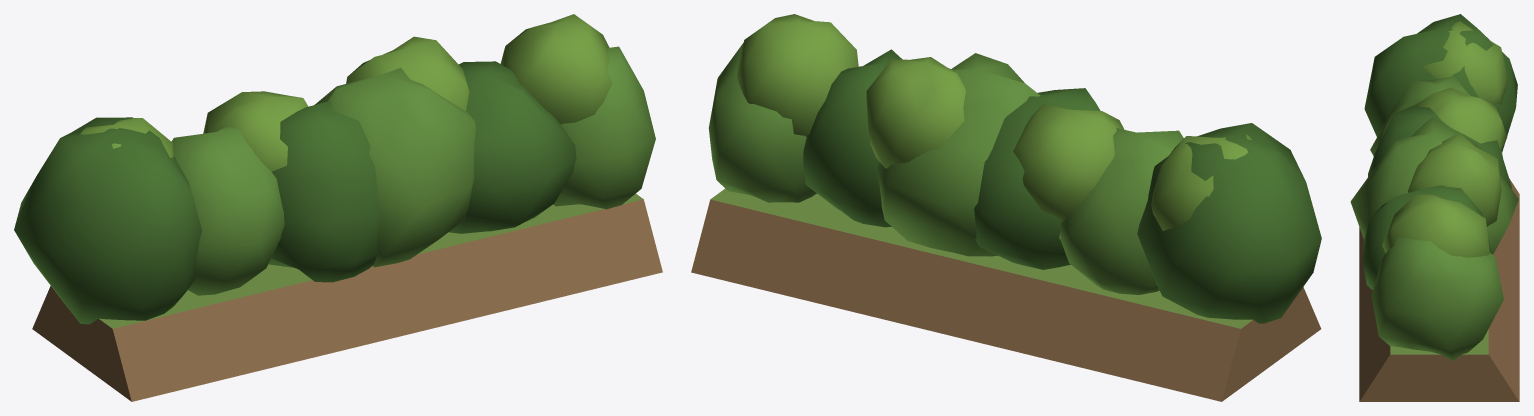
Rendered from hedgerow.glb.
3 views of the same model, side by side, from view 1: azimuth 30°, elevation 25°; view 2: azimuth 150°, elevation 25°; view 3: azimuth 270°, elevation 25° (orthographic). The views are drawn at different scales.
Visible parts, largest first — view 1: LOD0; view 2: LOD0; view 3: LOD0.
Part boxes in pixels (x1,y1,x2,y2): LOD0: [14, 14, 662, 401]; LOD0: [691, 14, 1321, 401]; LOD0: [1350, 14, 1519, 401].
Size of what is drawn, in the model's own units: 9.04 by 3.29 by 2.75.
Materials: 1 (1 with a texture image).
